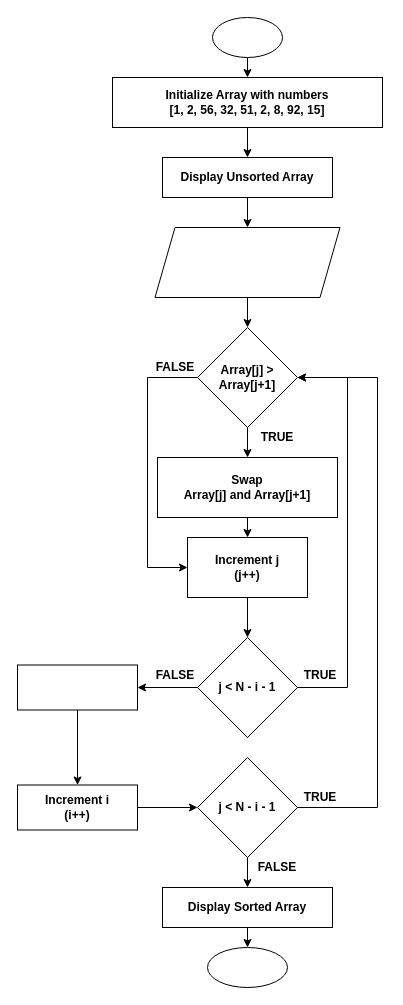
This 403x1005 diagram has some shape labels left out. Here are the shapes that lost their labels. From the top down, the centre of each, then its label:
At (x=247, y=37): "Start".
At (x=247, y=262): "Set N = Length of Array i = 0 j = 0".
At (x=77, y=687): "Clear j (j = 0)".
At (x=247, y=967): "End".
